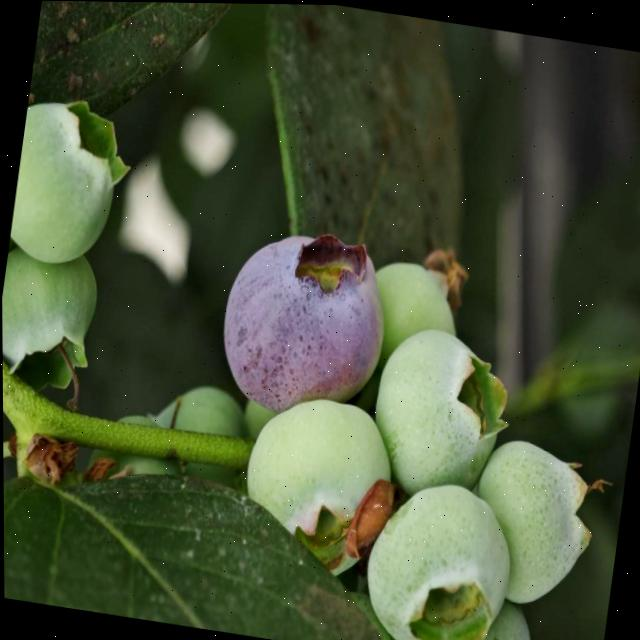Semi-RipeBlueBerry: (208, 214, 400, 420)
UnripeBlueBerry: (231, 384, 408, 587), (361, 312, 523, 507), (353, 467, 523, 640), (464, 428, 606, 615), (6, 92, 132, 274), (1, 244, 107, 399)
